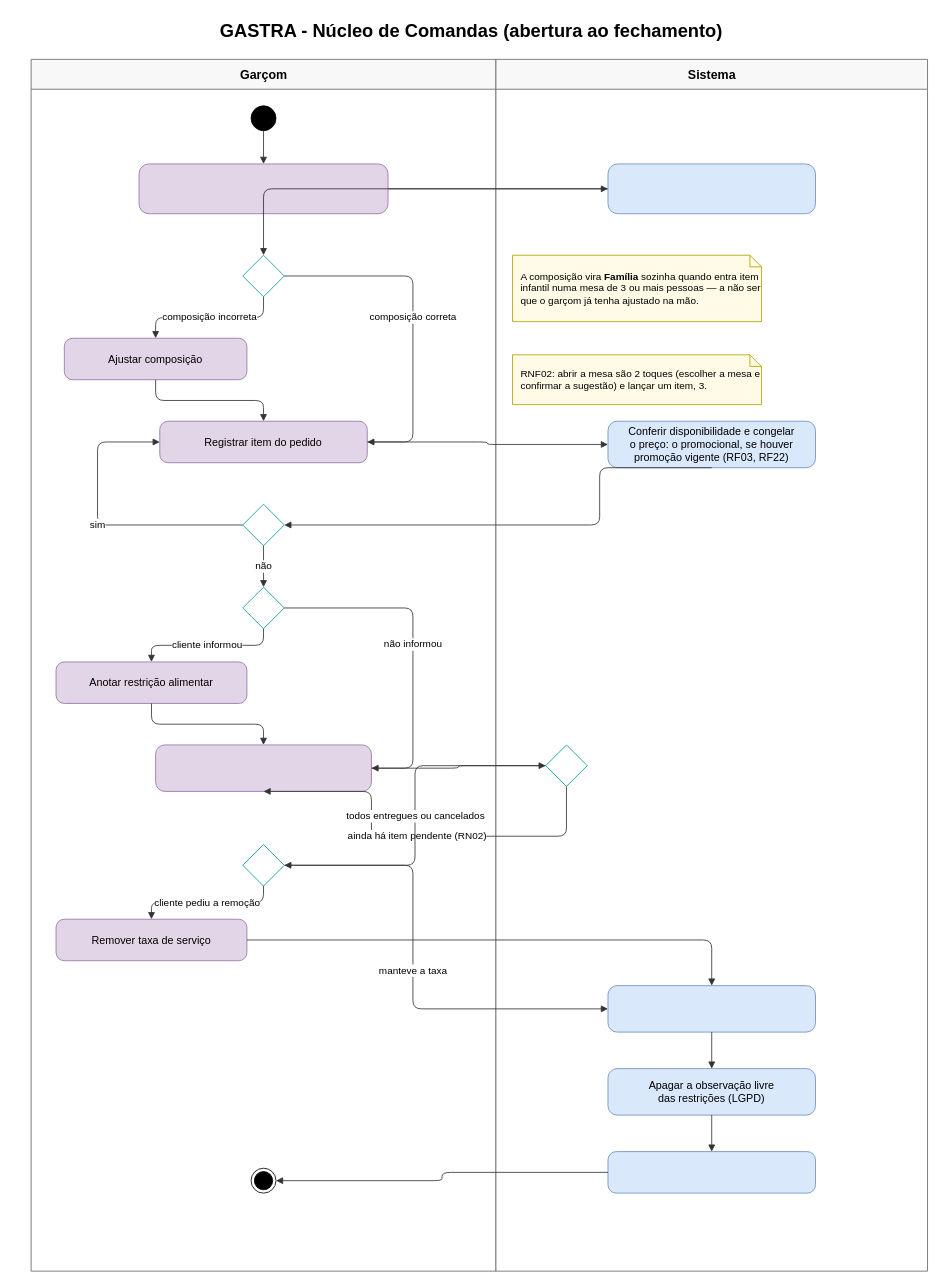
Some shapes in this 942 by 1286 pixel diagram are drawn without their labels. Here are the shapes that lost their labels. From the top down, the centre of each, then its label:
At pixel 263 188: "Selecionar mesa e informar o número de pessoas (1 · 2 · 3–4 · 5+)".
At pixel 711 188: "Sugerir composição da mesa (RN01)".
At pixel 263 767: "Marcar item entregue ou cancelar com motivo (UC23)".
At pixel 711 1008: "Calcular total: subtotal + 10% de taxa".
At pixel 711 1172: "Fechar comanda".
